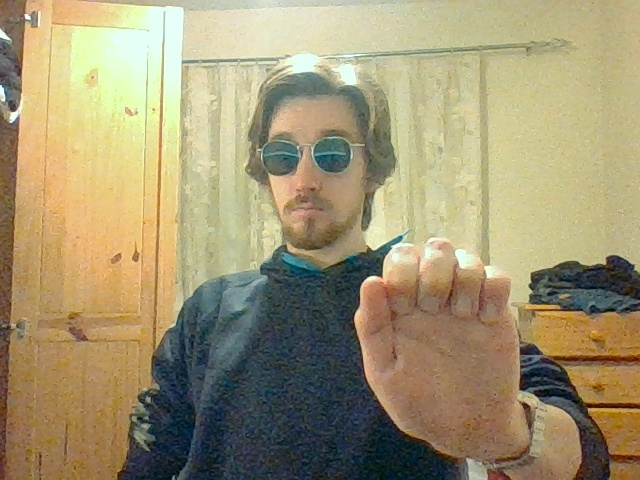your: (353, 237, 520, 421)
